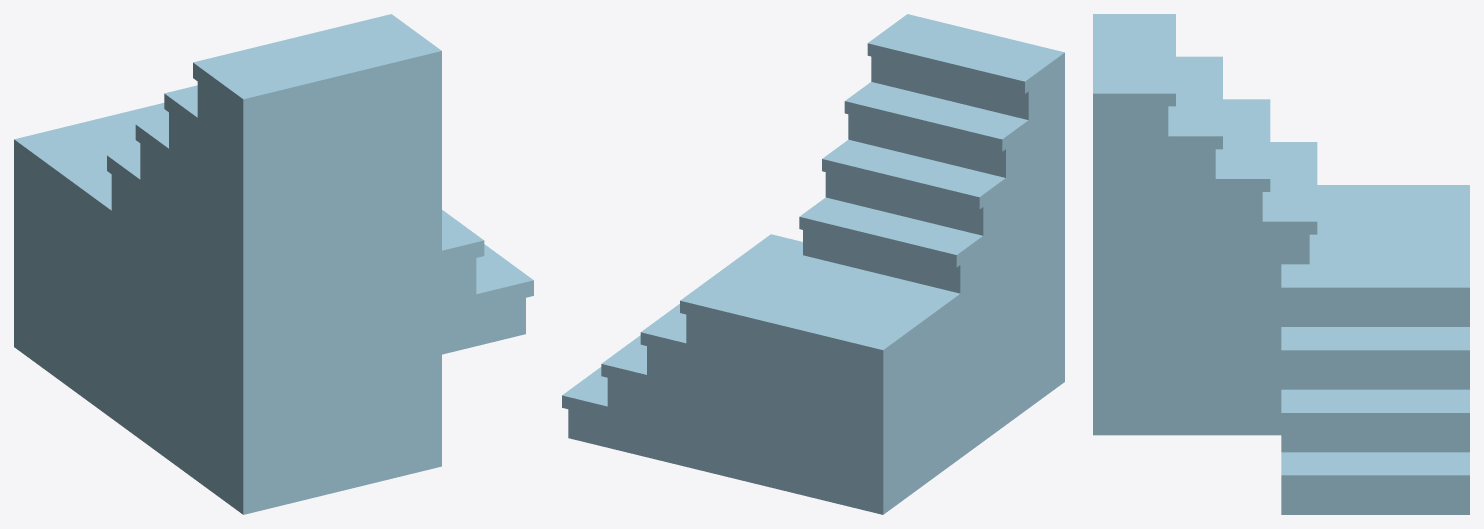
The model's file is stairsStoneCorner.dae.
3 views of the same model, side by side, from view 1: azimuth 30°, elevation 25°; view 2: azimuth 150°, elevation 25°; view 3: azimuth 270°, elevation 25° (orthographic). The views are drawn at different scales.
Visible parts, largest first — view 1: stairsStoneCorner; view 2: stairsStoneCorner; view 3: stairsStoneCorner.
Boxes of the visible parts, x1,y1,x2,y2 form: stairsStoneCorner: (14, 14, 533, 514); stairsStoneCorner: (562, 14, 1064, 514); stairsStoneCorner: (1093, 14, 1469, 514).
Size of the model in its own units: 1.02 by 1 by 1.
